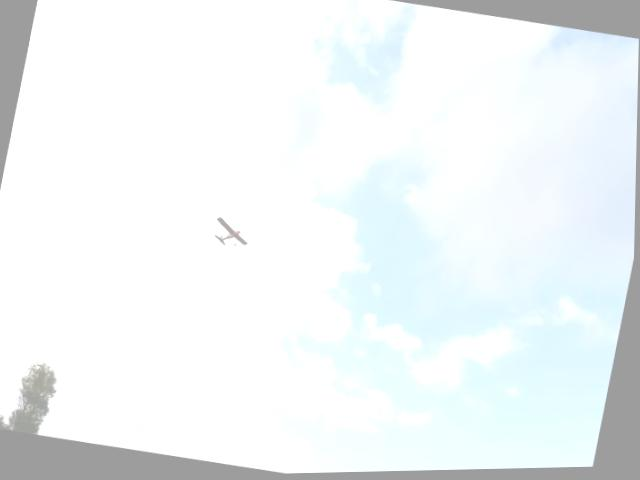plane: (211, 217, 252, 256)
